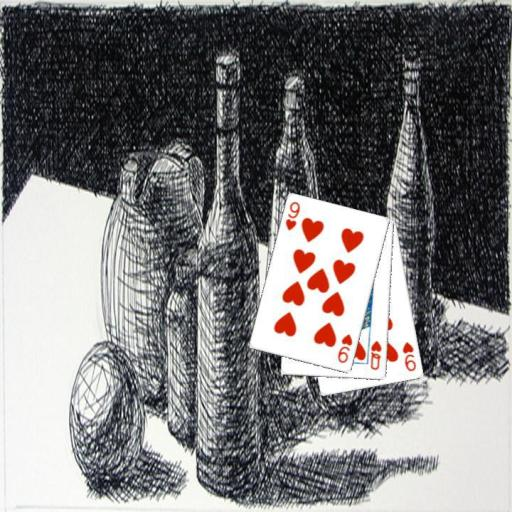9H: (335, 331, 354, 365), (283, 199, 302, 233), (400, 339, 418, 373)
QH: (368, 338, 383, 372)
